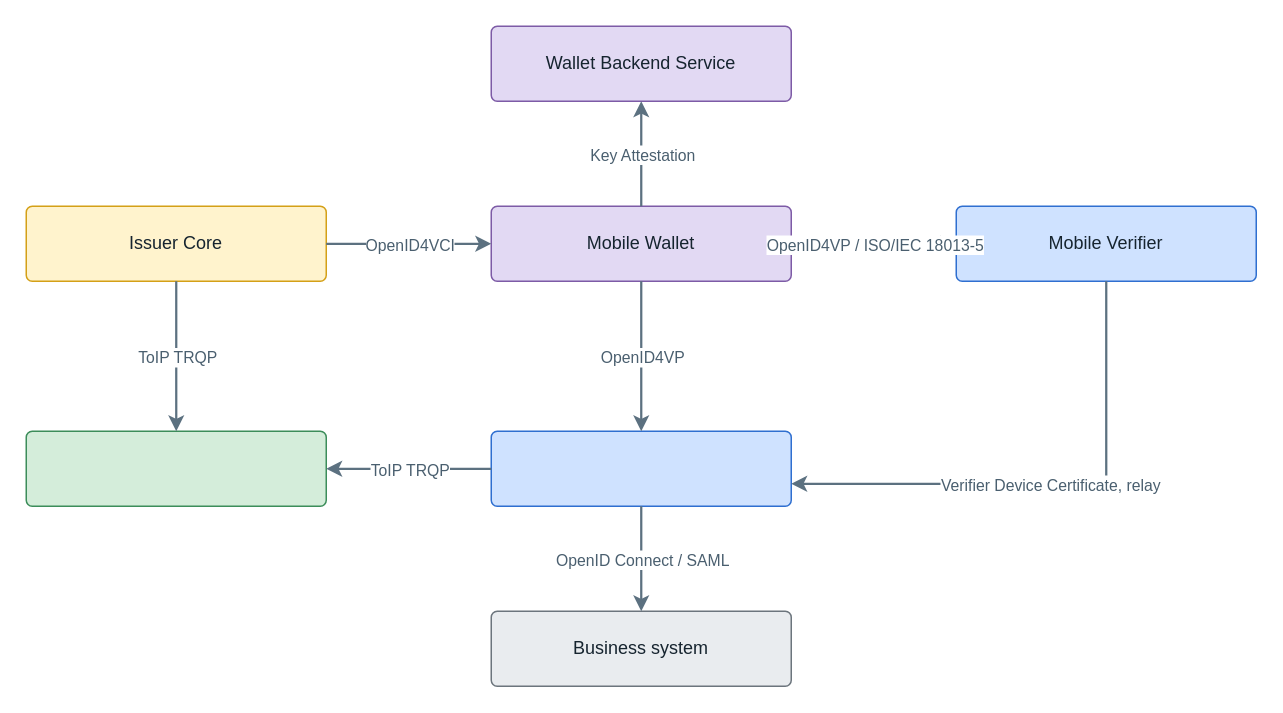
Image size: 1283x713. Some labels were removed from this diagram. Each missing label, with the box of its shape:
Trust Registry: (25, 430, 326, 506)
Verifier Core: (490, 430, 791, 506)
